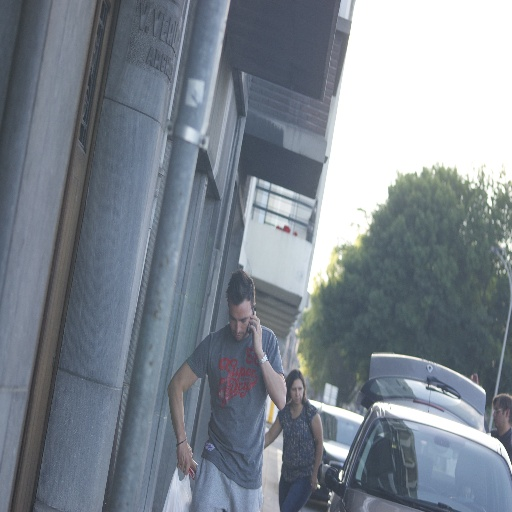hand: (176, 438, 197, 478), (249, 308, 259, 338), (308, 471, 319, 494)
